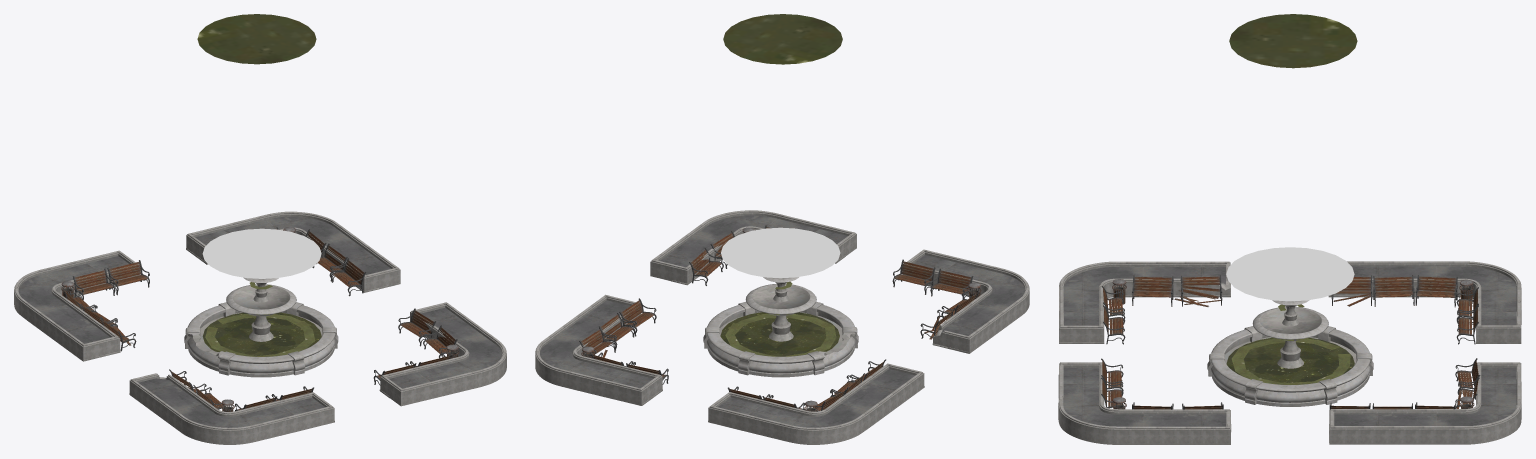
The model's file is Center.fbx.
3 views of the same model, side by side, from view 1: azimuth 30°, elevation 25°; view 2: azimuth 150°, elevation 25°; view 3: azimuth 270°, elevation 25° (orthographic). The views are drawn at different scales.
Parts seen in each view (by area): view 1: Hotel_STR_CenterGarden_01, Hotel_STR_Fountain_01, Hotel_STR_CenterGarden_01_Deco_01, Hotel_STR_Fountain_01_Water_02, Hotel_STR_Fountain_01_Water_03, Hotel_STR_Fountain_01_Water_01, Hotel_STR_Fountain_01_Grass; view 2: Hotel_STR_CenterGarden_01, Hotel_STR_Fountain_01, Hotel_STR_CenterGarden_01_Deco_01, Hotel_STR_Fountain_01_Water_02, Hotel_STR_Fountain_01_Water_03, Hotel_STR_Fountain_01_Water_01, Hotel_STR_Fountain_01_Grass; view 3: Hotel_STR_CenterGarden_01, Hotel_STR_CenterGarden_01_Deco_01, Hotel_STR_Fountain_01, Hotel_STR_Fountain_01_Water_02, Hotel_STR_Fountain_01_Water_03, Hotel_STR_Fountain_01_Water_01, Hotel_STR_Fountain_01_Grass.
Boxes of the visible parts, left/top/right/bottom form: Hotel_STR_CenterGarden_01: left=14, top=211, right=506, bottom=444; Hotel_STR_Fountain_01: left=184, top=277, right=338, bottom=377; Hotel_STR_CenterGarden_01_Deco_01: left=61, top=227, right=459, bottom=411; Hotel_STR_Fountain_01_Water_02: left=202, top=228, right=321, bottom=278; Hotel_STR_Fountain_01_Water_03: left=197, top=14, right=316, bottom=64; Hotel_STR_Fountain_01_Water_01: left=202, top=312, right=321, bottom=356; Hotel_STR_Fountain_01_Grass: left=205, top=282, right=315, bottom=356; Hotel_STR_CenterGarden_01: left=535, top=210, right=1029, bottom=444; Hotel_STR_Fountain_01: left=703, top=277, right=858, bottom=377; Hotel_STR_CenterGarden_01_Deco_01: left=579, top=225, right=981, bottom=411; Hotel_STR_Fountain_01_Water_02: left=721, top=227, right=840, bottom=278; Hotel_STR_Fountain_01_Water_03: left=723, top=14, right=842, bottom=64; Hotel_STR_Fountain_01_Water_01: left=720, top=312, right=839, bottom=356; Hotel_STR_Fountain_01_Grass: left=725, top=281, right=836, bottom=356; Hotel_STR_CenterGarden_01: left=1058, top=261, right=1521, bottom=444; Hotel_STR_CenterGarden_01_Deco_01: left=1101, top=275, right=1480, bottom=409; Hotel_STR_Fountain_01: left=1207, top=300, right=1373, bottom=406; Hotel_STR_Fountain_01_Water_02: left=1226, top=247, right=1354, bottom=301; Hotel_STR_Fountain_01_Water_03: left=1229, top=14, right=1357, bottom=68; Hotel_STR_Fountain_01_Water_01: left=1226, top=338, right=1354, bottom=382; Hotel_STR_Fountain_01_Grass: left=1231, top=304, right=1350, bottom=384.
Size of the model in its own units: 1971 by 1817 by 2304.
Materials: 6 (5 with a texture image).
